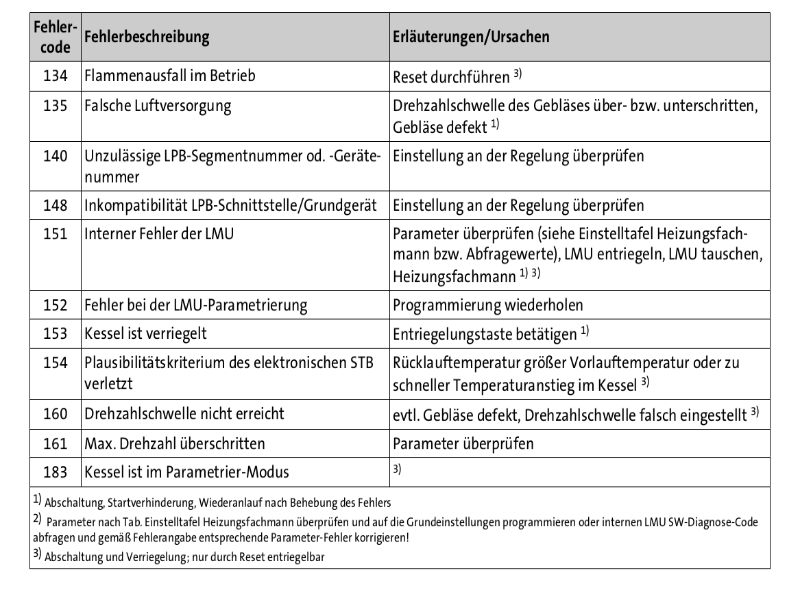border: (18, 4, 786, 582)
cell: (32, 491, 767, 564), (392, 222, 766, 287), (392, 354, 764, 394), (392, 96, 761, 136), (84, 145, 384, 184), (83, 354, 380, 392), (392, 404, 764, 425), (82, 195, 380, 216), (392, 146, 648, 169), (393, 195, 652, 215), (83, 294, 321, 315), (83, 18, 235, 50), (83, 461, 297, 483), (83, 402, 301, 423), (392, 294, 595, 315), (392, 323, 595, 344), (82, 433, 290, 453), (84, 64, 261, 87), (84, 222, 255, 244), (391, 25, 559, 46), (84, 98, 261, 117), (392, 435, 543, 456), (82, 323, 224, 345), (392, 66, 532, 88), (31, 18, 79, 55), (36, 97, 77, 117), (36, 461, 75, 482), (37, 66, 77, 85), (38, 146, 75, 166), (38, 222, 73, 243), (38, 403, 72, 423), (39, 195, 74, 214), (39, 324, 72, 343), (38, 436, 73, 453), (38, 296, 71, 314), (39, 356, 72, 374), (391, 459, 411, 479)
